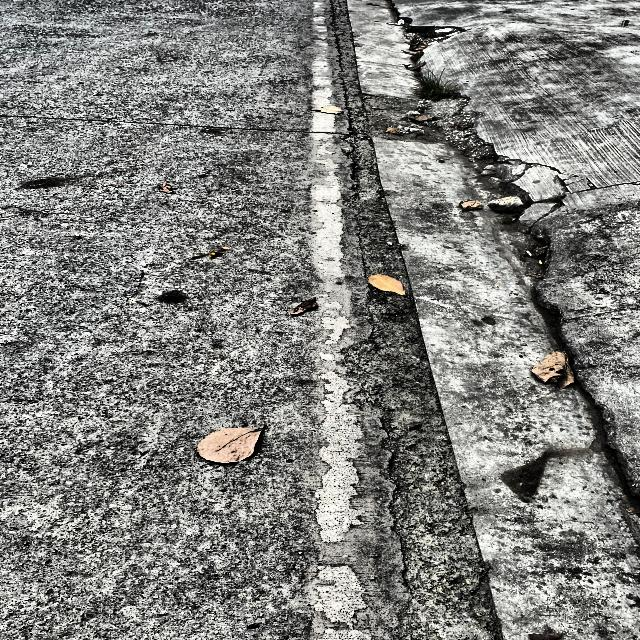no_or_faded_road_markings: (315, 369, 363, 543), (311, 113, 345, 288), (311, 563, 370, 640), (316, 289, 350, 363), (313, 43, 333, 112)
